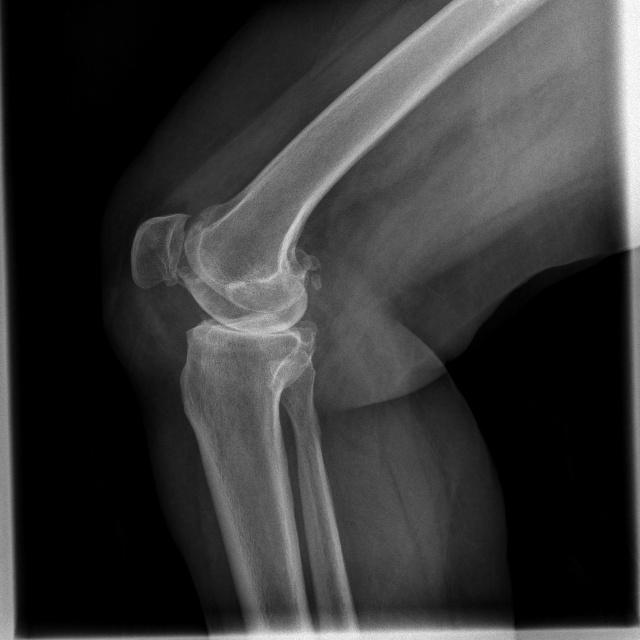Knee: (127, 211, 336, 400)
